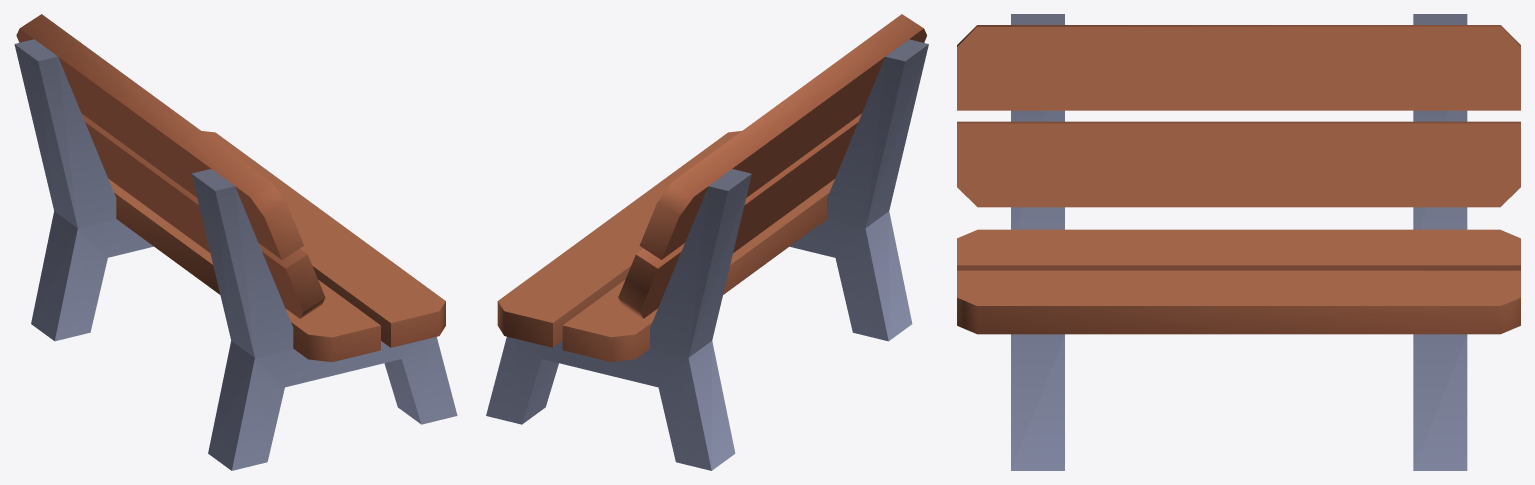
The model's file is sw_bench.glb.
The picture shows the model from 3 angles, left to right: view 1: azimuth 30°, elevation 25°; view 2: azimuth 150°, elevation 25°; view 3: azimuth 270°, elevation 25°; orthographic projection. The views are drawn at different scales.
Visible parts, largest first — view 1: sw_bench; view 2: sw_bench; view 3: sw_bench.
Part boxes in pixels (bbox=[...]): sw_bench: bbox=[14, 14, 457, 470]; sw_bench: bbox=[486, 14, 928, 470]; sw_bench: bbox=[957, 14, 1520, 470].
Size of the model in its own units: 1.14 by 1.32 by 2.02.
